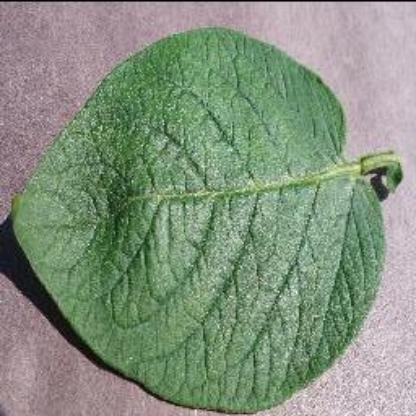Healthy-plant: (9, 27, 402, 415)
